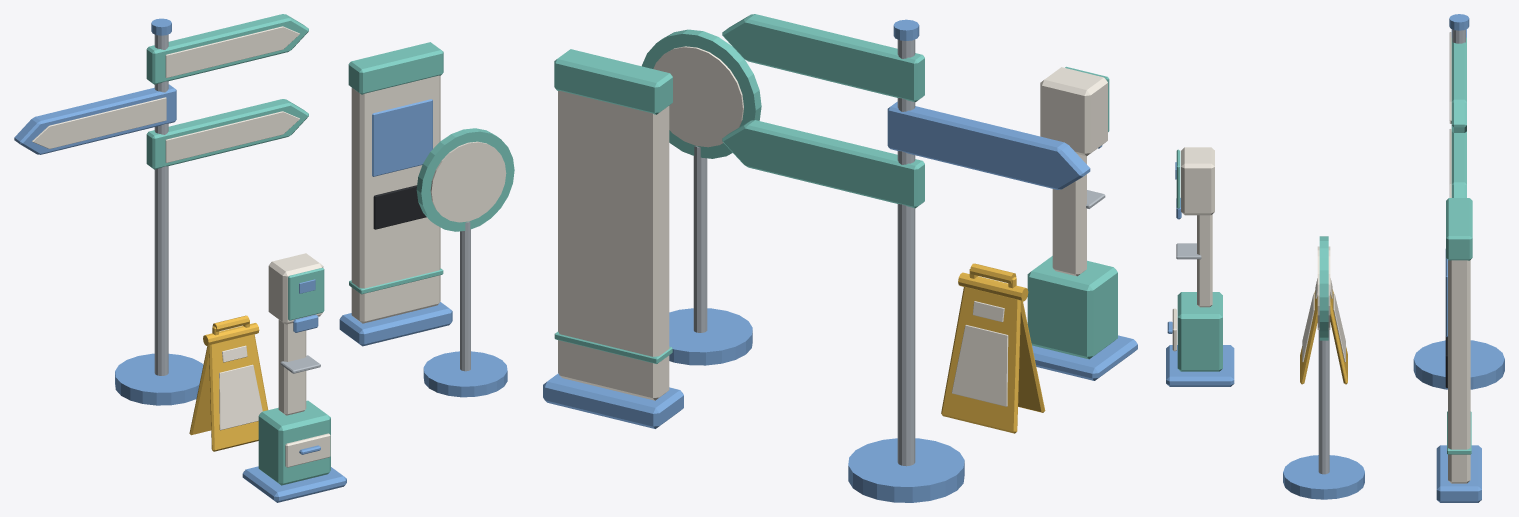
Rendered from hospital-signage-set.glb.
The picture shows the model from 3 angles, left to right: view 1: azimuth 30°, elevation 25°; view 2: azimuth 150°, elevation 25°; view 3: azimuth 270°, elevation 25°; orthographic projection. The views are drawn at different scales.
Parts seen in each view (by area): view 1: FloorSign_Panel, QuietSign_Face, Sanitiser_Cabinet, FloorSign_NumberField, DirSign_Base, DirSign_Pole, FloorSign_Header, QuietSign_Disc, DirSign_Arrow1, DirSign_Arrow2, DirSign_Arrow3, WetFloor_PanelFront (+16 smaller); view 2: FloorSign_Panel, DirSign_Arrow2, DirSign_Arrow1, DirSign_Arrow3, Sanitiser_Cabinet, QuietSign_Back, DirSign_Base, DirSign_Pole, WetFloor_PanelBack, FloorSign_Header, Sanitiser_Body, FloorSign_Plinth (+9 smaller); view 3: FloorSign_Panel, Sanitiser_Cabinet, QuietSign_Base, DirSign_Base, Sanitiser_Body, FloorSign_Plinth, Sanitiser_Base, FloorSign_Header, QuietSign_Pole, Sanitiser_Column, DirSign_Arrow1, QuietSign_Disc (+4 smaller).
Boxes of the visible parts, <box> form: FloorSign_Panel: <box>351,75,440,323</box>; QuietSign_Face: <box>430,141,506,222</box>; Sanitiser_Cabinet: <box>258,400,330,485</box>; FloorSign_NumberField: <box>372,99,432,176</box>; DirSign_Base: <box>115,353,203,405</box>; DirSign_Pole: <box>154,34,168,375</box>; FloorSign_Header: <box>348,42,443,94</box>; QuietSign_Disc: <box>416,128,514,231</box>; DirSign_Arrow1: <box>146,14,308,84</box>; DirSign_Arrow2: <box>14,84,176,154</box>; DirSign_Arrow3: <box>146,99,308,169</box>; WetFloor_PanelFront: <box>208,334,268,451</box>; FloorSign_Panel: <box>558,91,669,400</box>; DirSign_Arrow2: <box>887,101,1090,189</box>; DirSign_Arrow1: <box>722,14,924,102</box>; DirSign_Arrow3: <box>722,120,924,208</box>; Sanitiser_Cabinet: <box>1027,256,1117,359</box>; QuietSign_Back: <box>653,46,743,147</box>; DirSign_Base: <box>848,438,964,502</box>; DirSign_Pole: <box>897,39,915,466</box>; WetFloor_PanelBack: <box>941,287,1020,433</box>; FloorSign_Header: <box>554,49,672,114</box>; Sanitiser_Body: <box>1040,67,1107,156</box>; FloorSign_Plinth: <box>543,373,683,428</box>; FloorSign_Panel: <box>1448,260,1470,483</box>; Sanitiser_Cabinet: <box>1177,292,1222,371</box>; QuietSign_Base: <box>1283,455,1364,499</box>; DirSign_Base: <box>1413,340,1504,389</box>; Sanitiser_Body: <box>1181,147,1214,215</box>; FloorSign_Plinth: <box>1436,445,1481,502</box>; Sanitiser_Base: <box>1166,345,1234,386</box>; FloorSign_Header: <box>1446,198,1472,260</box>; QuietSign_Pole: <box>1318,330,1329,474</box>; Sanitiser_Column: <box>1197,214,1212,307</box>; DirSign_Arrow1: <box>1451,37,1466,132</box>; QuietSign_Disc: <box>1319,236,1328,340</box>.
Bounding box in the file's own units: 10.49 × 8.55 × 7.44.
